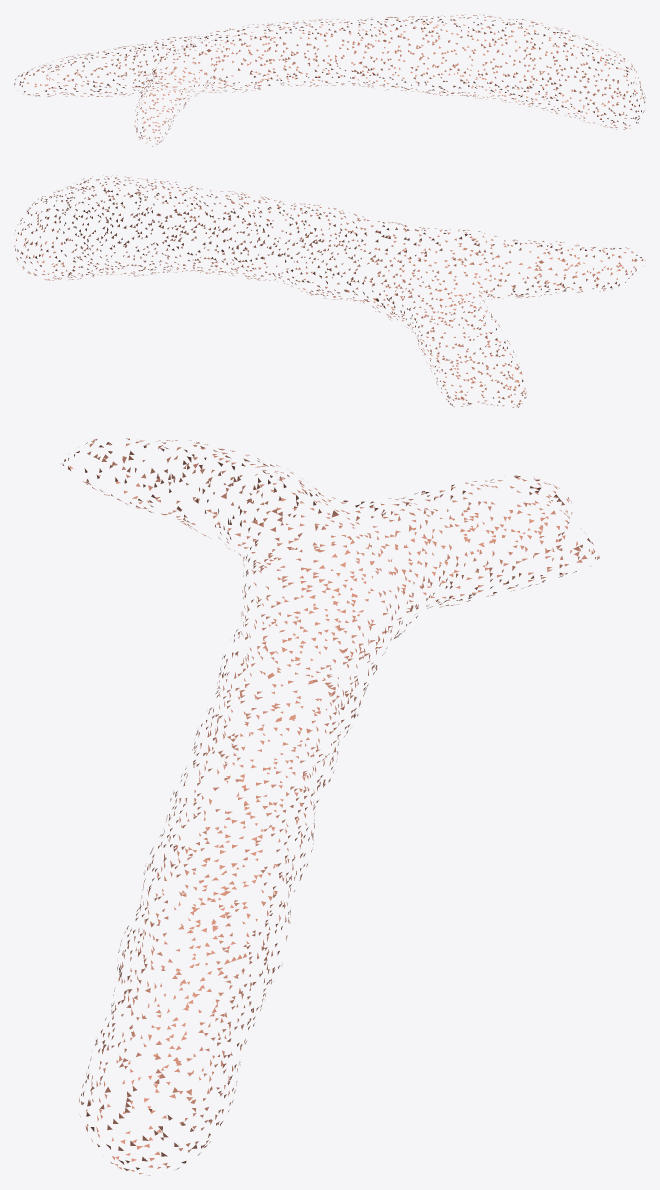
Rendered from morph_003.glb.
3 renders of one model, top to bottom at view 1: azimuth 30°, elevation 25°; view 2: azimuth 150°, elevation 25°; view 3: azimuth 270°, elevation 25°, orthographic. The views are drawn at different scales.
Size of the model in its own units: 144 by 40.55 by 64.01.
